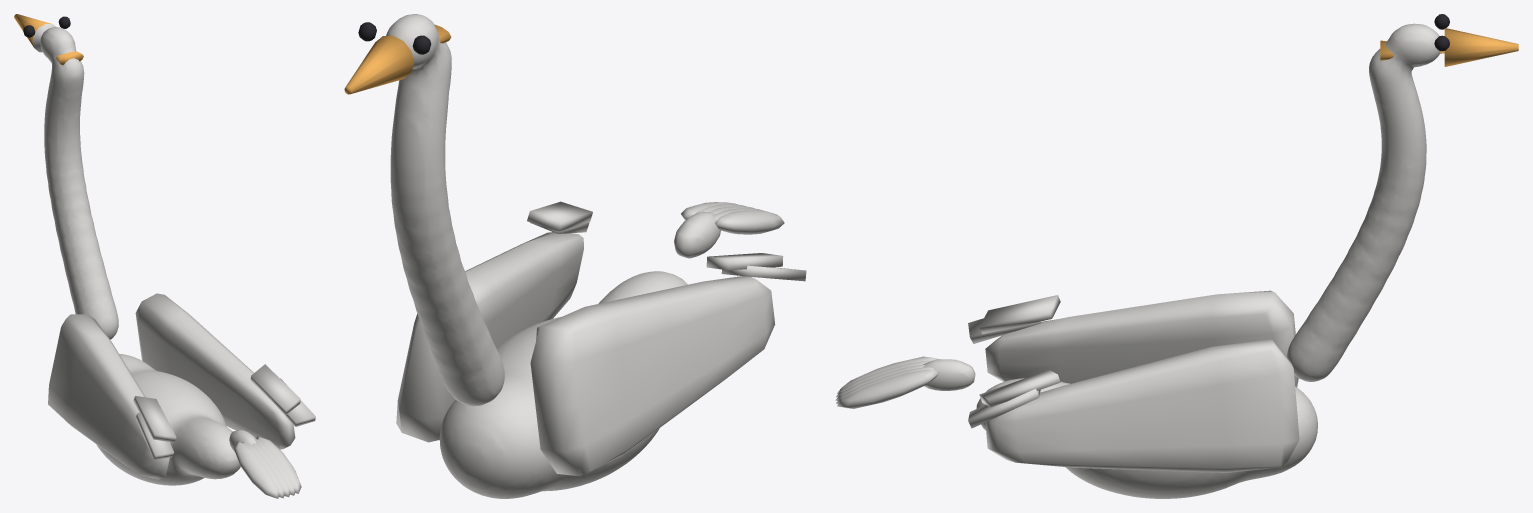
Rendered from swan_style3.glb.
3 renders of one model, left to right at view 1: azimuth 30°, elevation 25°; view 2: azimuth 150°, elevation 25°; view 3: azimuth 270°, elevation 25°, orthographic. The views are drawn at different scales.
Parts seen in each view (by area): view 1: WingR, NeckHead, WingL, Body, TailFan; view 2: WingR, NeckHead, Body, WingL, TailFan; view 3: WingL, NeckHead, WingR, Body, TailFan.
Boxes of the visible parts, x1,y1,x2,y2 form: WingR: [48, 314, 176, 479]; NeckHead: [14, 14, 118, 339]; WingL: [135, 293, 315, 449]; Body: [96, 354, 256, 485]; TailFan: [233, 436, 301, 498]; WingR: [530, 253, 806, 476]; NeckHead: [344, 14, 504, 406]; Body: [439, 211, 720, 498]; WingL: [396, 201, 592, 442]; TailFan: [681, 202, 784, 234]; WingL: [968, 339, 1299, 472]; NeckHead: [1287, 14, 1518, 381]; WingR: [968, 290, 1298, 387]; Body: [923, 359, 1317, 498]; TailFan: [835, 356, 940, 408].
Size of the model in its own units: 0.5353 by 1.17 by 1.57.
